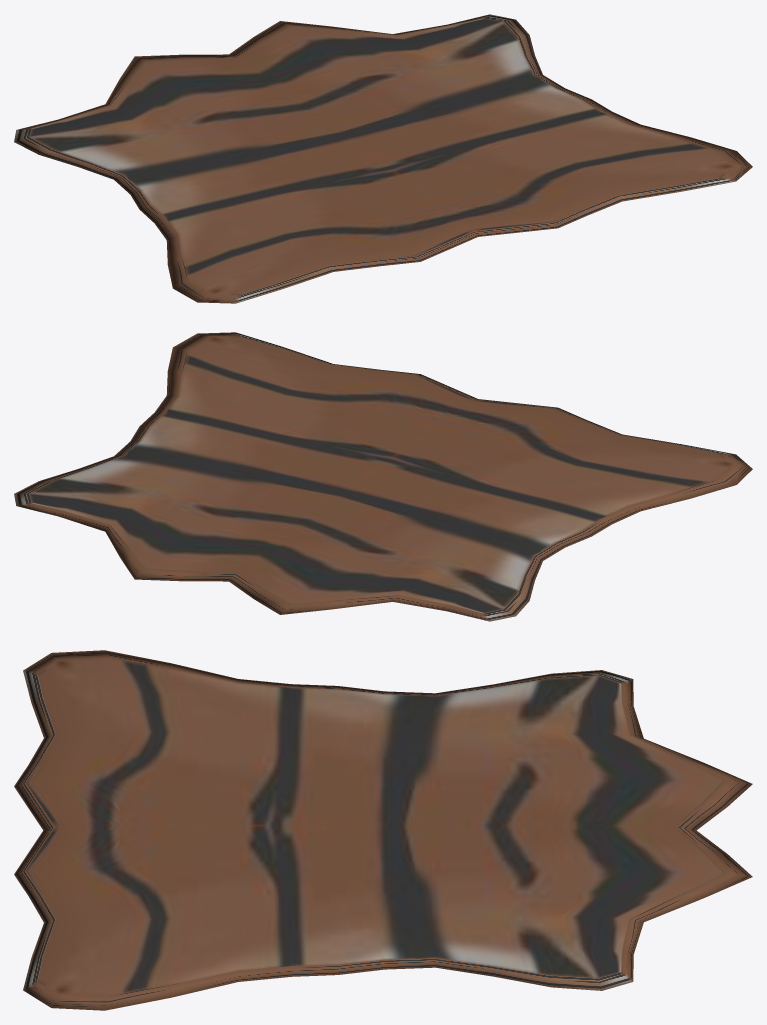
Rendered from tiger_leather.fbx.
3 renders of one model, top to bottom at view 1: azimuth 30°, elevation 25°; view 2: azimuth 150°, elevation 25°; view 3: azimuth 270°, elevation 25°, orthographic. The views are drawn at different scales.
Visible parts, largest first — view 1: Box001; view 2: Box001; view 3: Box001.
Boxes of the visible parts, left/top/right/bottom form: Box001: left=14, top=14, right=752, bottom=303; Box001: left=14, top=332, right=752, bottom=621; Box001: left=14, top=650, right=752, bottom=1010.
Size of the model in its own units: 87.76 by 1.08 by 76.03.
Materials: 1 (1 with a texture image).
